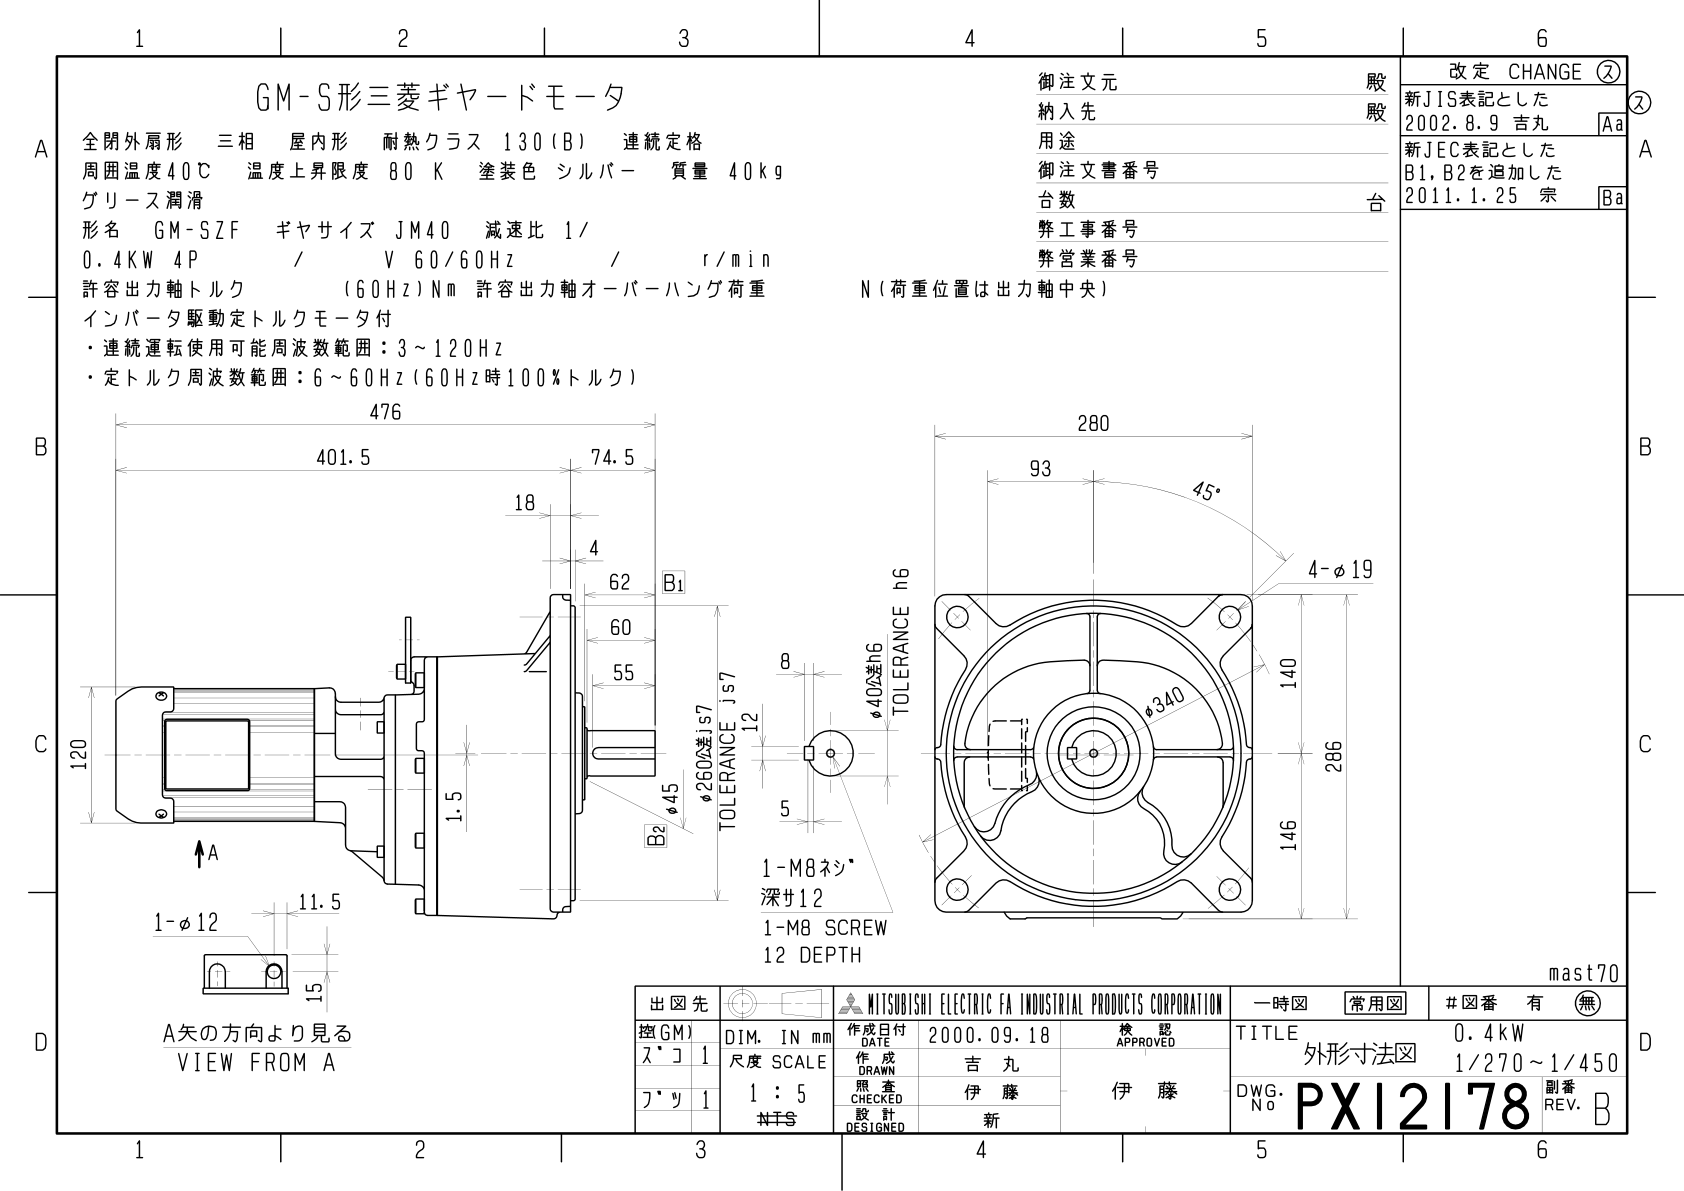GM_S_インバタ屋内＿三相_フランジ: (12, 10, 1680, 1191)
